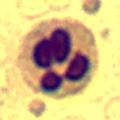neutrophil: (16, 18, 100, 100)
